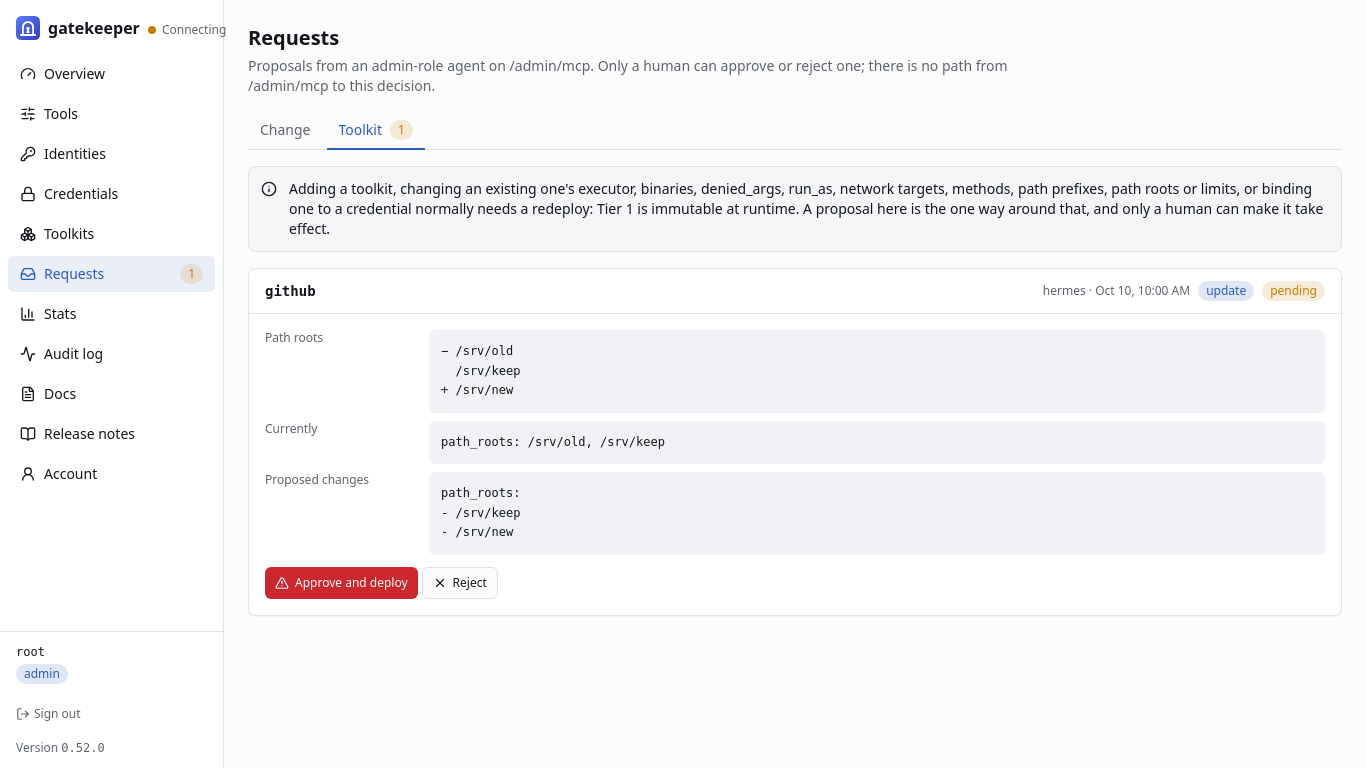
Test case: requests › shows a path_roots update as a before/after diff and warns before deploying it
Expected: the text "Path roots" is shown, [265,329,323,346]
What coordinates should you click on to do the following:
click the button "Approve and deploy"
I would click on:
 (341, 582)
Its box is [265,566,418,598].
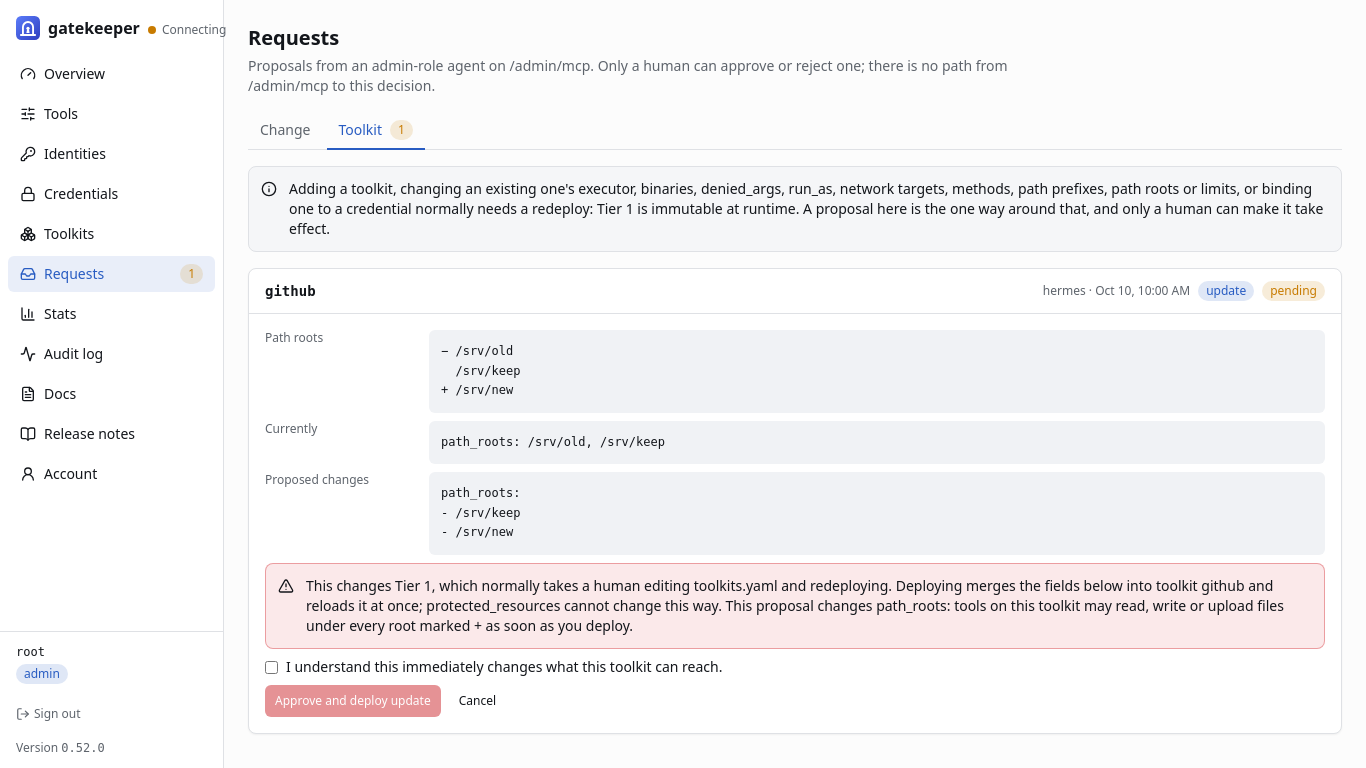
Expected: the text "This proposal changes path_roots" is shown, [306,576,1284,634]
Expected: the button "Approve and deploy update" is disabled, [265,684,441,716]
